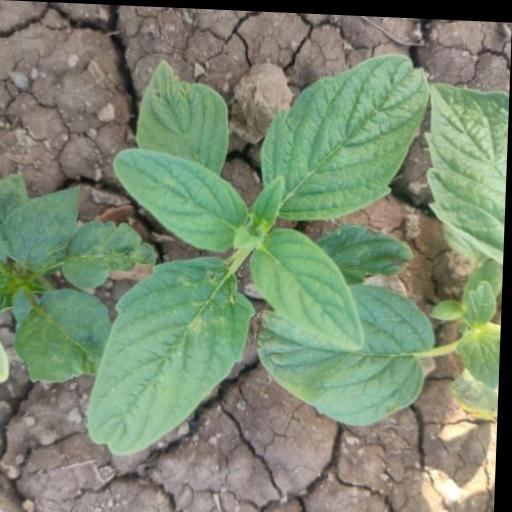crop: (0, 28, 511, 456)
